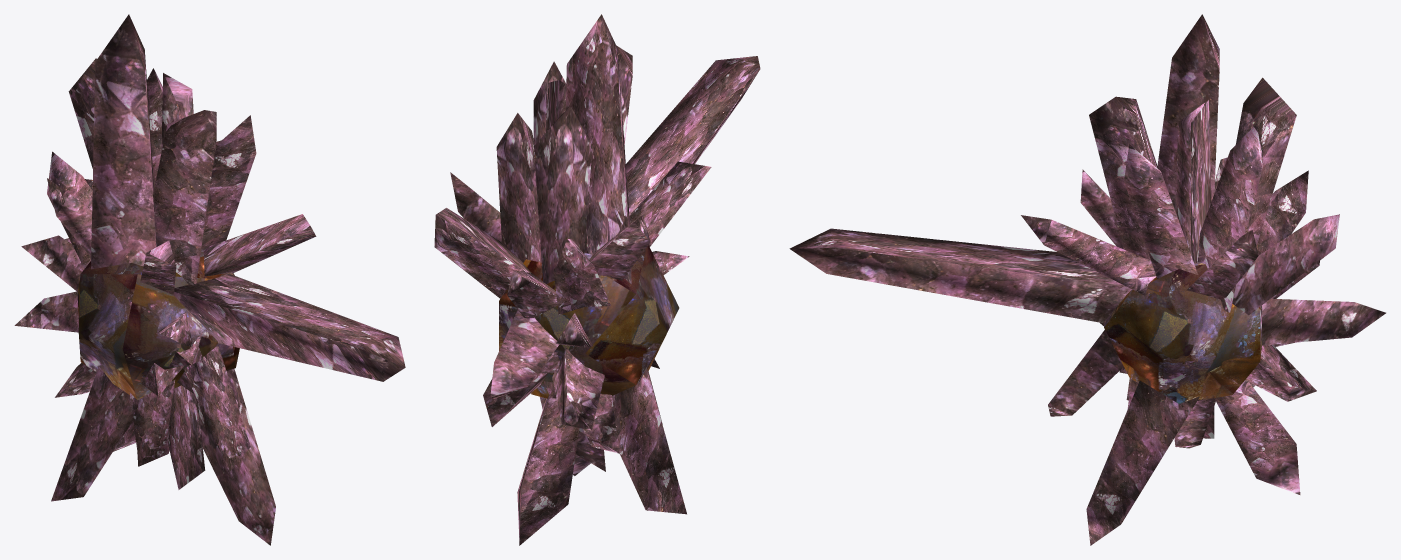
File: bst20.obj
3 renders of one model, left to right at view 1: azimuth 30°, elevation 25°; view 2: azimuth 150°, elevation 25°; view 3: azimuth 270°, elevation 25°, orthographic. The views are drawn at different scales.
Parts seen in each view (by area): view 1: SPIKES0, BOD0; view 2: SPIKES0, BOD0; view 3: SPIKES0, BOD0.
Part boxes in pixels (bbox=[...]): SPIKES0: bbox=[14, 14, 405, 545]; BOD0: bbox=[77, 249, 239, 400]; SPIKES0: bbox=[434, 14, 760, 545]; BOD0: bbox=[499, 245, 679, 398]; SPIKES0: bbox=[789, 14, 1385, 545]; BOD0: bbox=[1104, 262, 1261, 403].
Size of the model in its own units: 43.07 by 102 by 112.
2 materials, 2 textured.
